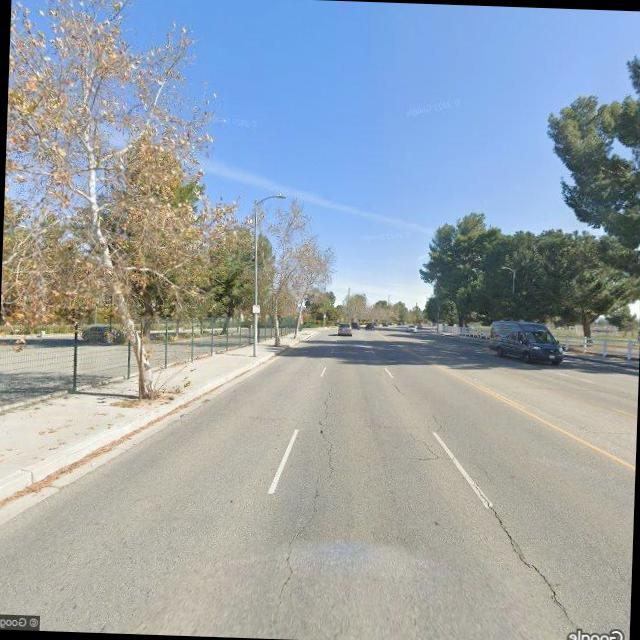pothole: (278, 387, 344, 611), (478, 496, 586, 628), (406, 430, 443, 459), (472, 458, 498, 482)
